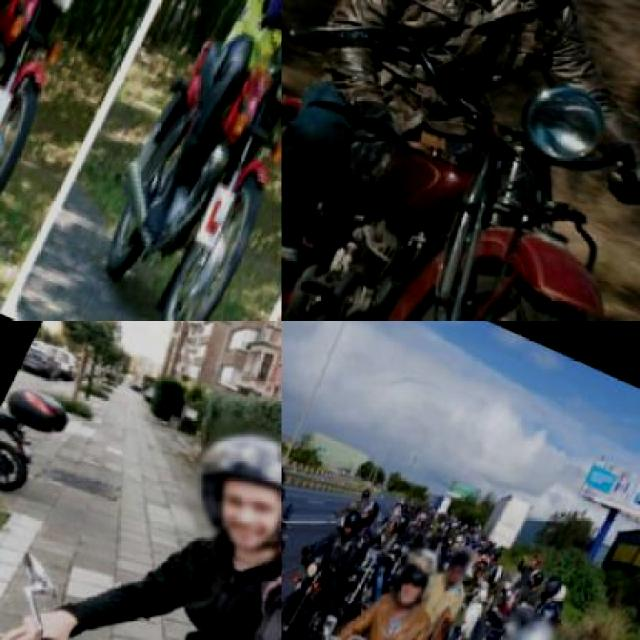With Helmet: (166, 406, 280, 577), (381, 533, 459, 629), (484, 597, 576, 638), (352, 490, 391, 535), (333, 500, 372, 545), (540, 564, 571, 602), (583, 618, 639, 638), (282, 442, 290, 492)
Without Helmet: (441, 540, 482, 592)
